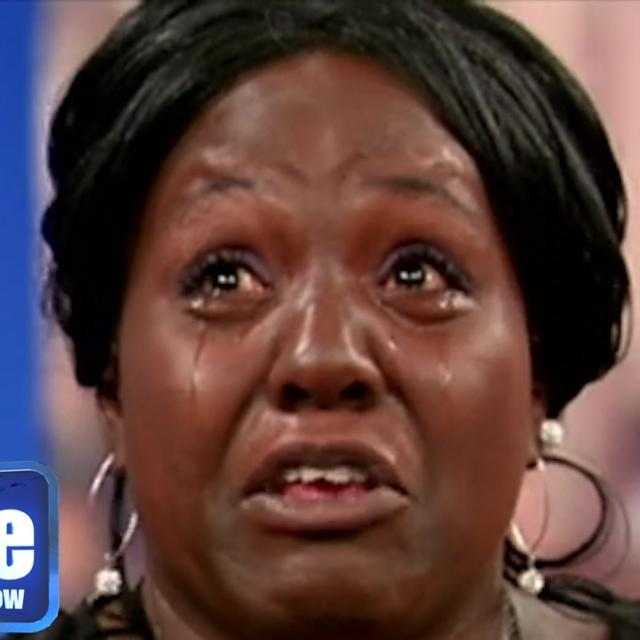Depress: (115, 51, 540, 638)
